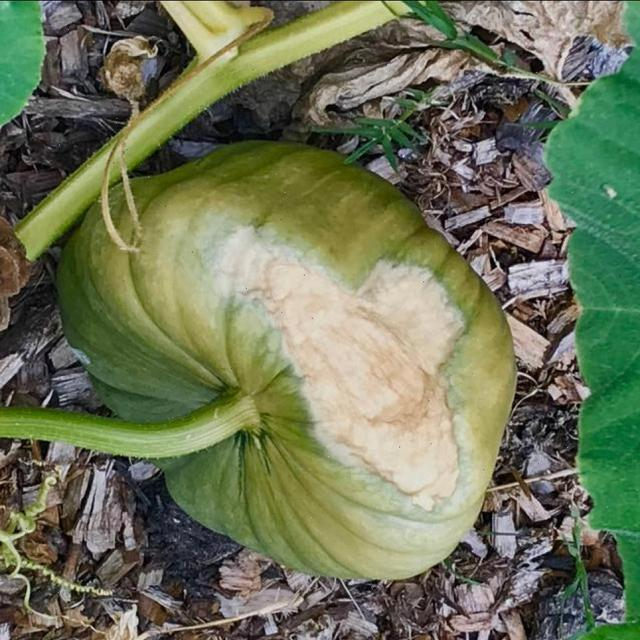Sunscald Fruit: (143, 149, 314, 339)
